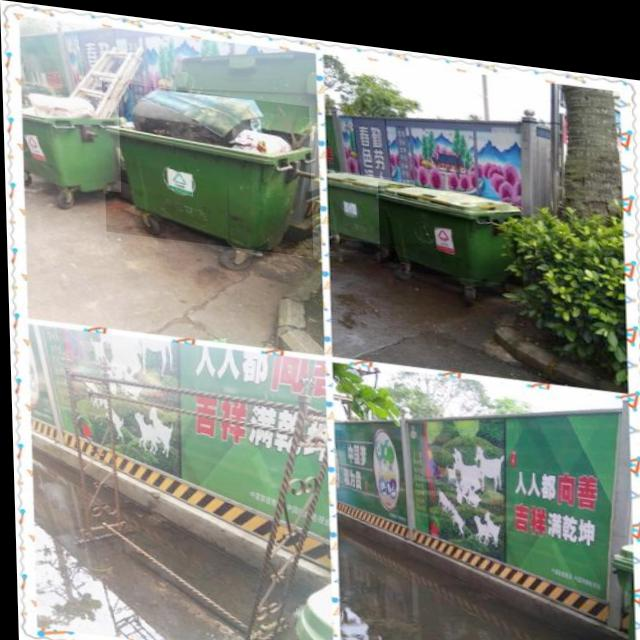garbage_bin: (377, 173, 522, 273), (327, 161, 416, 238)
overflow: (101, 78, 312, 249), (20, 89, 120, 190)
